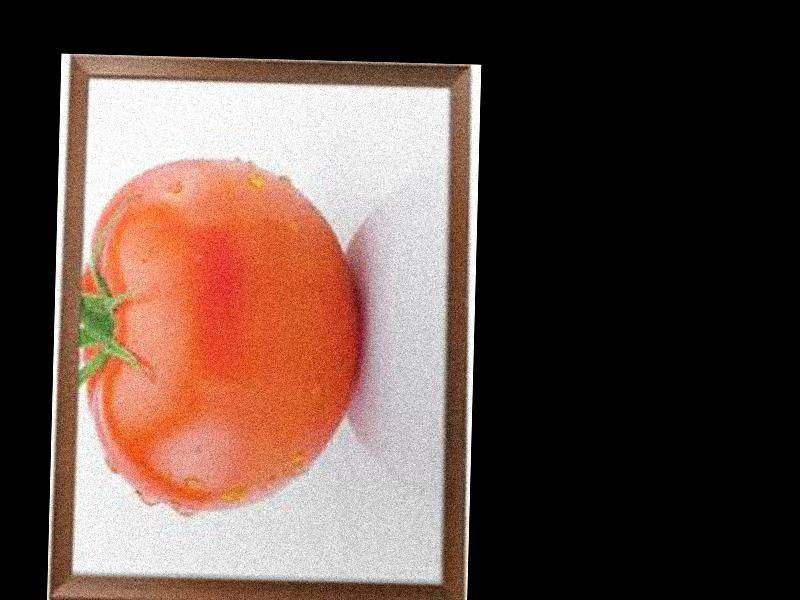Tomato: (73, 156, 364, 515)
